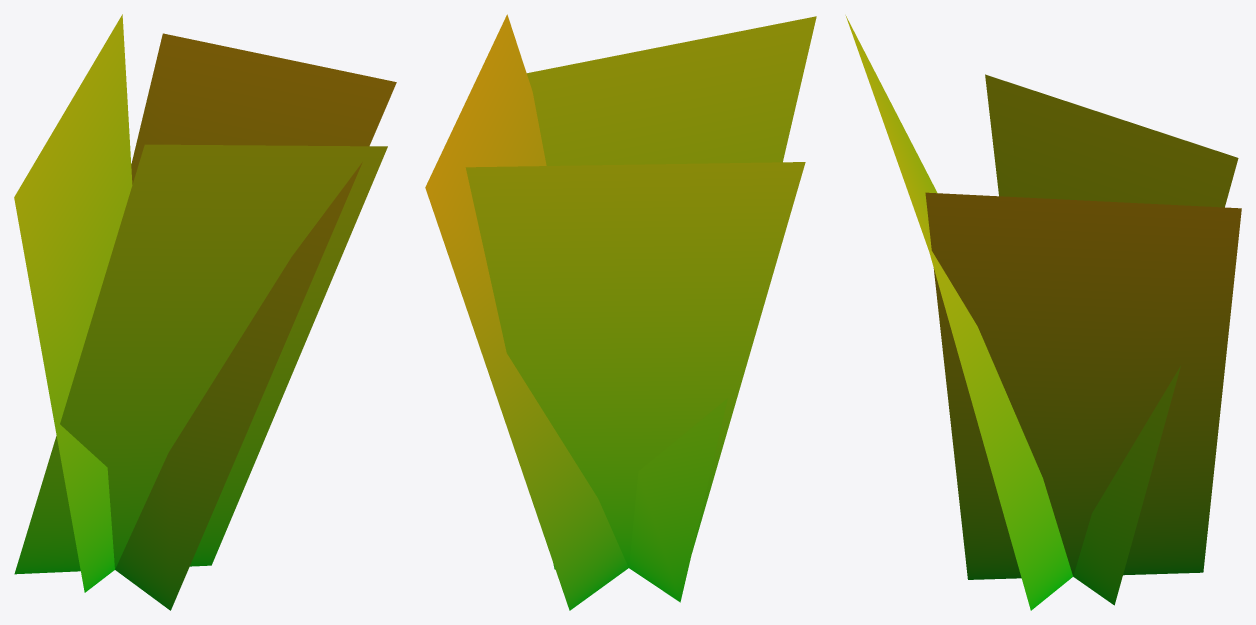
The model's file is Ocean Seaweed_LOD2_Var3_sdDgS.fbx.
The picture shows the model from 3 angles, left to right: view 1: azimuth 30°, elevation 25°; view 2: azimuth 150°, elevation 25°; view 3: azimuth 270°, elevation 25°; orthographic projection. The views are drawn at different scales.
Visible parts, largest first — view 1: _sbd9_Var3_LOD2; view 2: _sbd9_Var3_LOD2; view 3: _sbd9_Var3_LOD2.
Part boxes in pixels (x1,y1,x2,y2): _sbd9_Var3_LOD2: (14, 14, 396, 610); _sbd9_Var3_LOD2: (425, 14, 816, 610); _sbd9_Var3_LOD2: (845, 15, 1241, 610).
Size of the model in its own units: 27.03 by 39.13 by 26.87.
